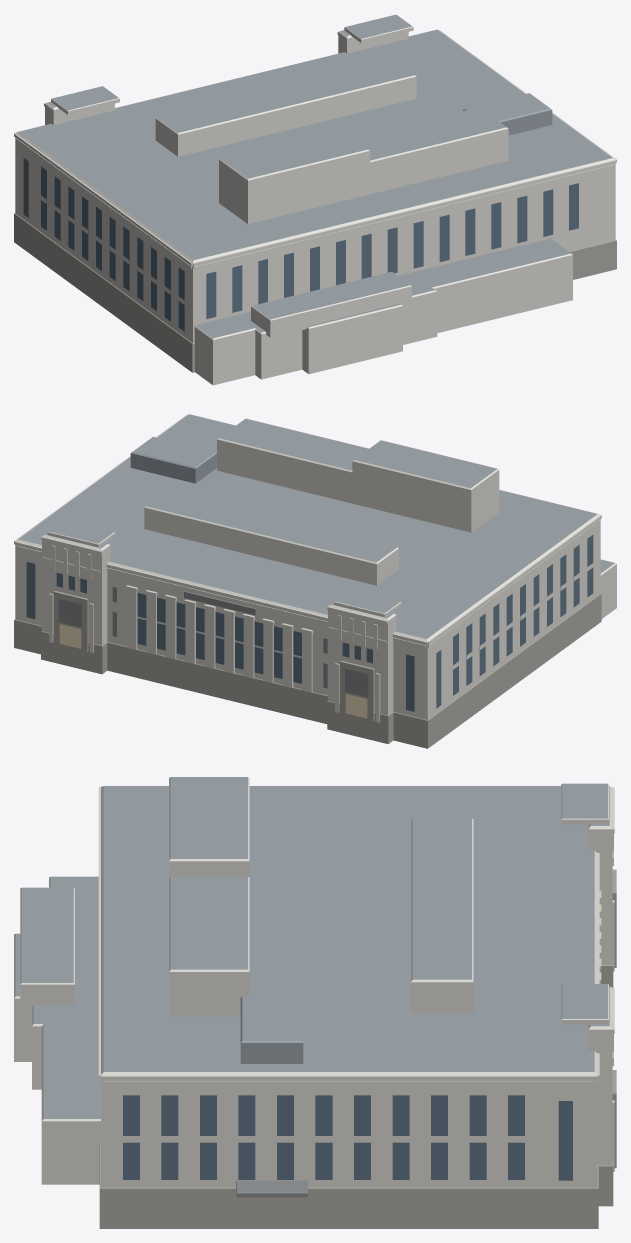
The model's file is nash-frist-art-museum.glb.
3 views of the same model, one above another, from view 1: azimuth 30°, elevation 25°; view 2: azimuth 150°, elevation 25°; view 3: azimuth 270°, elevation 25° (orthographic). The views are drawn at different scales.
Parts seen in each view (by area): view 1: Frist Art Museum; view 2: Frist Art Museum; view 3: Frist Art Museum.
Part boxes in pixels (x1,y1,x2,y2): Frist Art Museum: [14, 14, 616, 385]; Frist Art Museum: [14, 414, 616, 748]; Frist Art Museum: [14, 777, 616, 1228].
Size of the model in its own units: 79.65 by 26.8 by 67.3.
